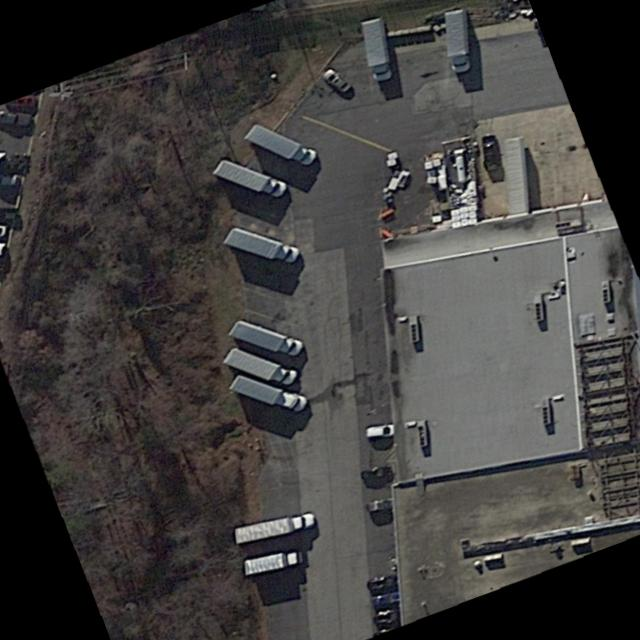large-vehicle: (228, 373, 310, 412), (245, 122, 318, 165), (221, 345, 299, 385), (227, 318, 306, 357), (212, 158, 288, 198), (222, 226, 300, 264), (234, 510, 314, 545), (361, 16, 391, 81), (444, 8, 470, 73), (244, 548, 305, 574)
small-vehicle: (478, 130, 504, 173), (320, 66, 355, 95), (366, 572, 400, 591), (0, 110, 35, 128), (363, 422, 396, 441), (364, 496, 395, 514), (361, 464, 392, 482), (372, 590, 402, 608), (375, 605, 401, 624), (0, 172, 30, 186), (0, 207, 21, 221), (0, 223, 11, 238)
